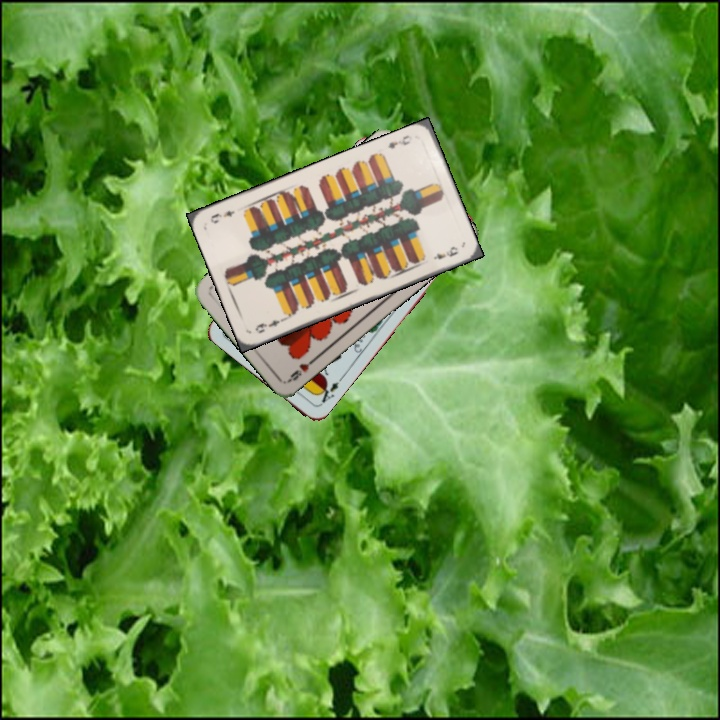E9: (251, 313, 288, 336), (384, 131, 413, 151)
EA: (313, 378, 341, 408)
H9: (285, 353, 319, 384)
